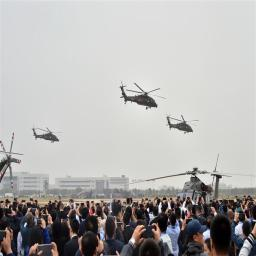helicopter: (118, 76, 166, 117), (31, 117, 66, 152), (165, 110, 201, 138)
